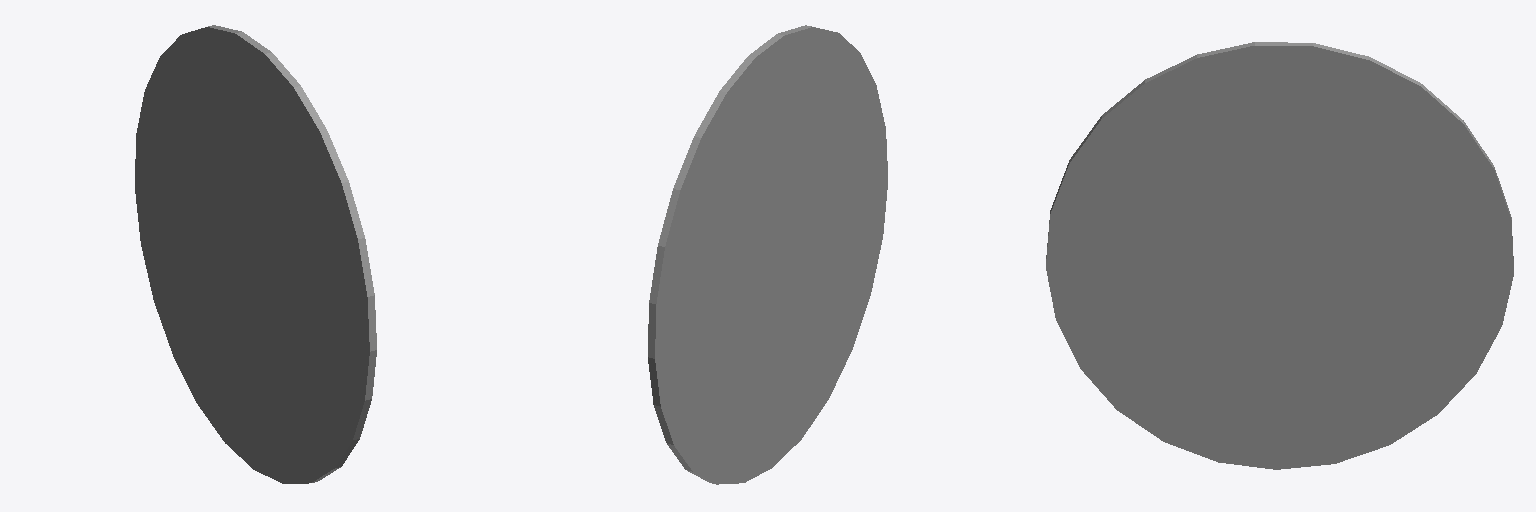
File: carrera_wheel.obj
3 renders of one model, left to right at view 1: azimuth 30°, elevation 25°; view 2: azimuth 150°, elevation 25°; view 3: azimuth 270°, elevation 25°, orthographic.
Parts seen in each view (by area): view 1: Geometry; view 2: Geometry; view 3: Geometry.
Boxes of the visible parts, <box> form: Geometry: <box>135,25,376,483</box>; Geometry: <box>648,25,887,484</box>; Geometry: <box>1046,42,1513,469</box>.
Bounding box in the file's own units: 0.0102 × 0.4985 × 0.499.